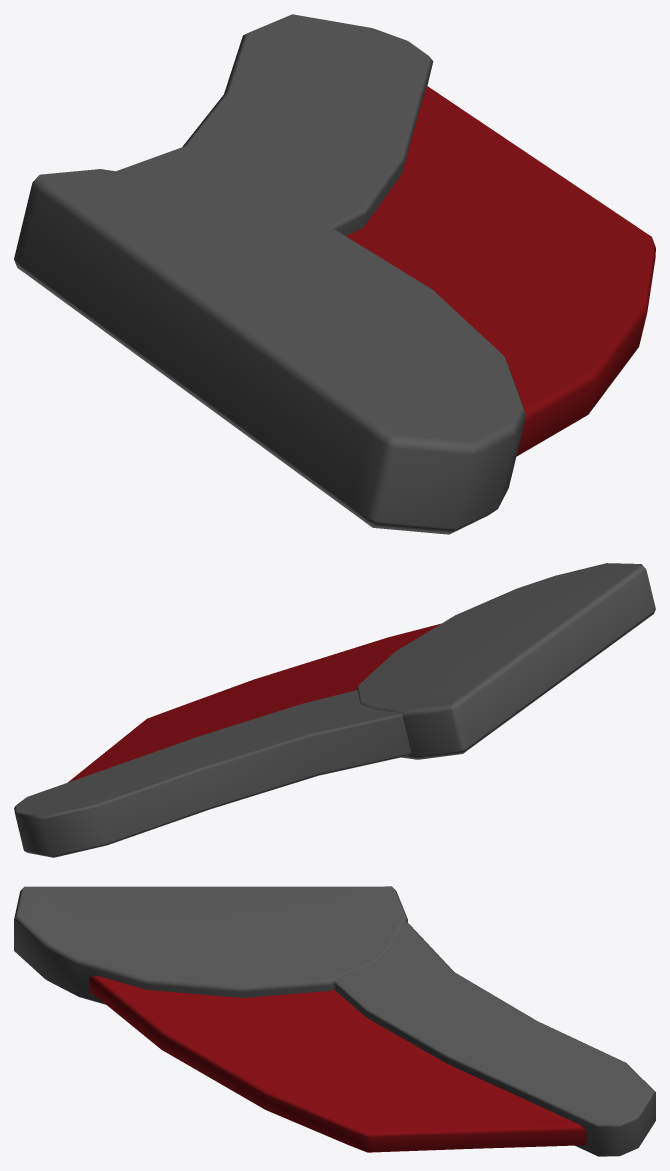
File: Ship_enemy_12_Wing_L.fbx
3 views of the same model, one above another, from view 1: azimuth 30°, elevation 25°; view 2: azimuth 150°, elevation 25°; view 3: azimuth 270°, elevation 25° (orthographic). The views are drawn at different scales.
Visible parts, largest first — view 1: Ship_enemy_12_Wing_L; view 2: Ship_enemy_12_Wing_L; view 3: Ship_enemy_12_Wing_L.
Part boxes in pixels (x1=…): Ship_enemy_12_Wing_L: x1=14, y1=14, x2=655, y2=534; Ship_enemy_12_Wing_L: x1=14, y1=563, x2=655, y2=857; Ship_enemy_12_Wing_L: x1=14, y1=886, x2=655, y2=1156.
Bounding box in the file's own units: 157 × 59.24 × 273.
